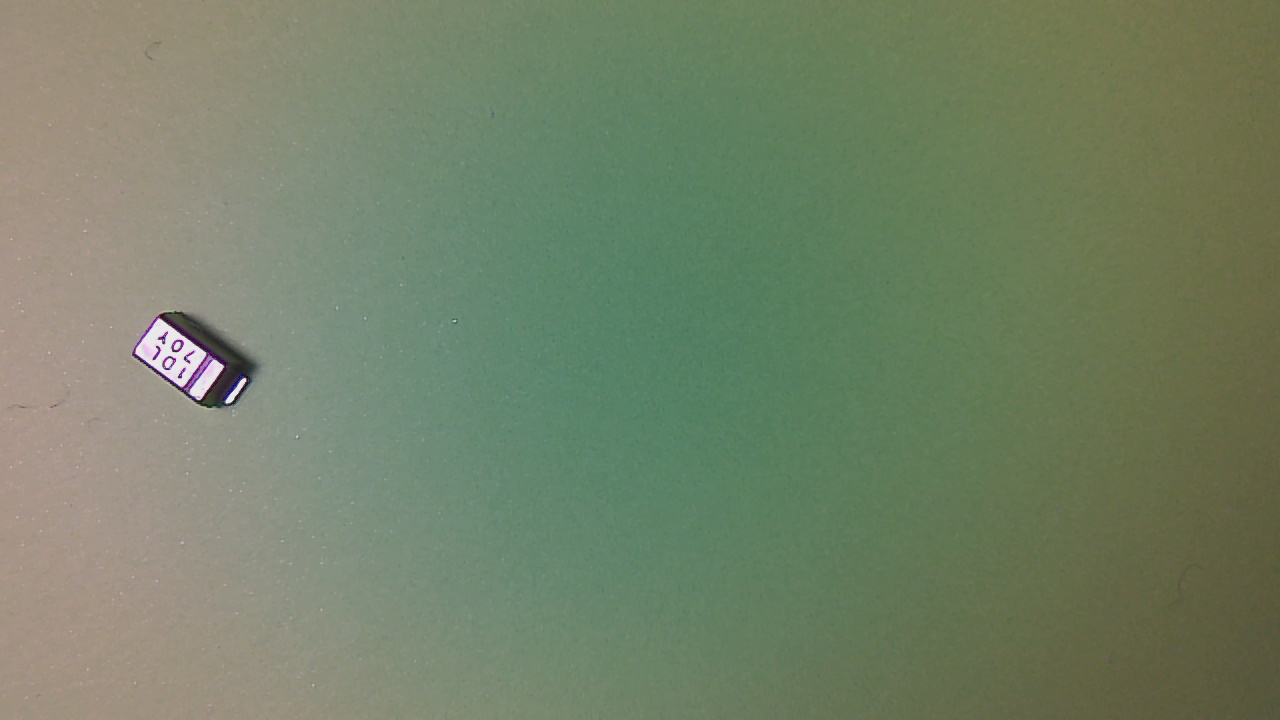Diode: (132, 310, 264, 416)
